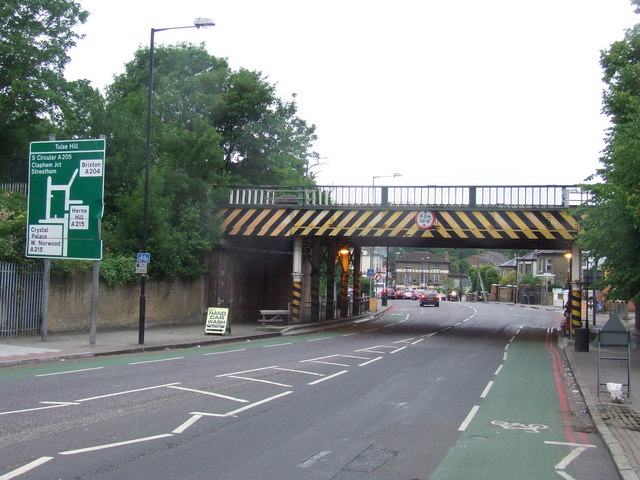bridge: (212, 186, 584, 253)
